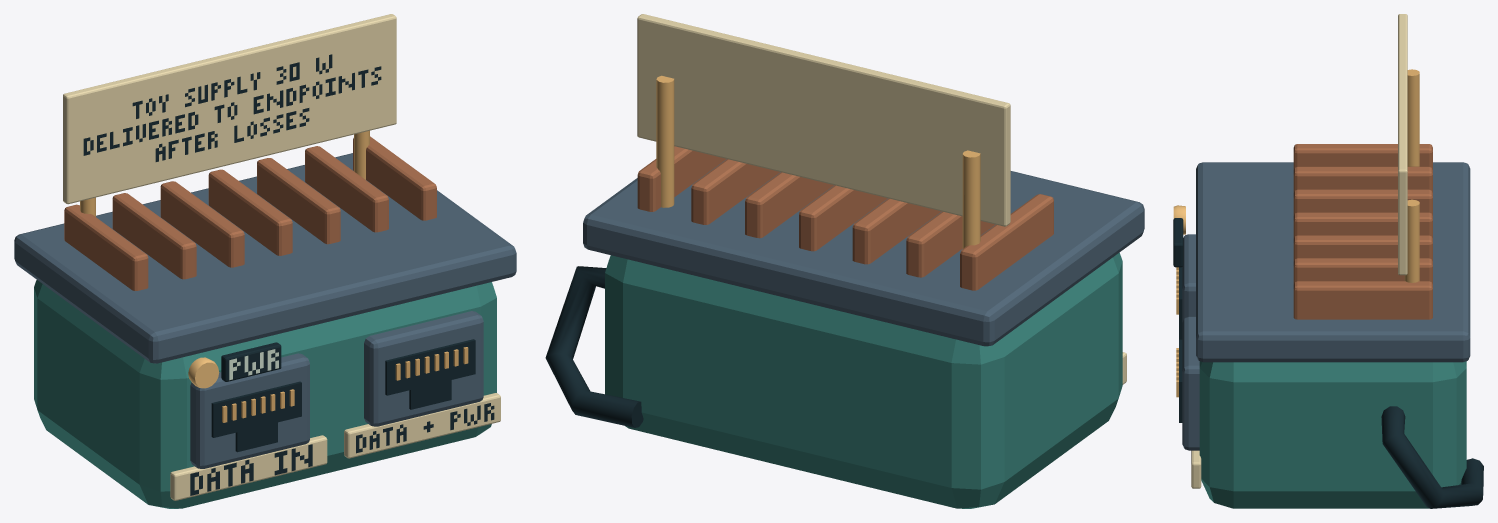
The picture shows the model from 3 angles, left to right: view 1: azimuth 30°, elevation 25°; view 2: azimuth 150°, elevation 25°; view 3: azimuth 270°, elevation 25°; orthographic projection. The views are drawn at different scales.
Parts seen in each view (by area): view 1: PR084 enamel and hardware; view 2: PR084 enamel and hardware; view 3: PR084 enamel and hardware.
Boxes of the visible parts, <box> form: PR084 enamel and hardware: <box>14,14,516,508</box>; PR084 enamel and hardware: <box>545,14,1144,508</box>; PR084 enamel and hardware: <box>1173,14,1483,508</box>.
Size of the model in its own units: 1.15 by 0.9417 by 0.767.
